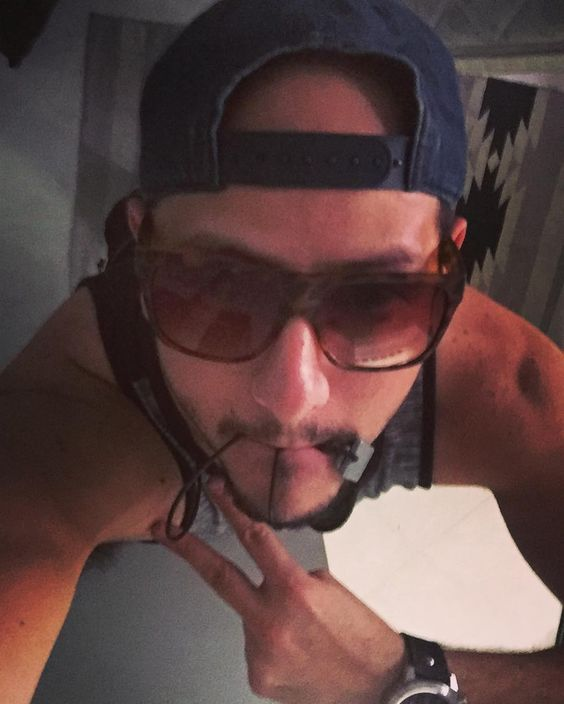sunglasses: (139, 246, 443, 369)
